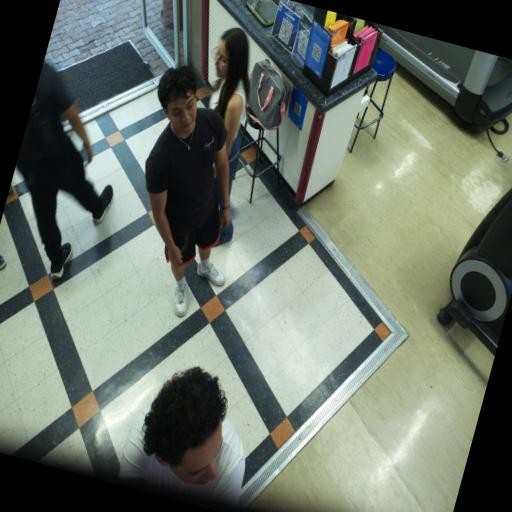person: (145, 66, 230, 316), (16, 63, 113, 279), (120, 367, 245, 506), (210, 28, 249, 194), (0, 255, 6, 270)
